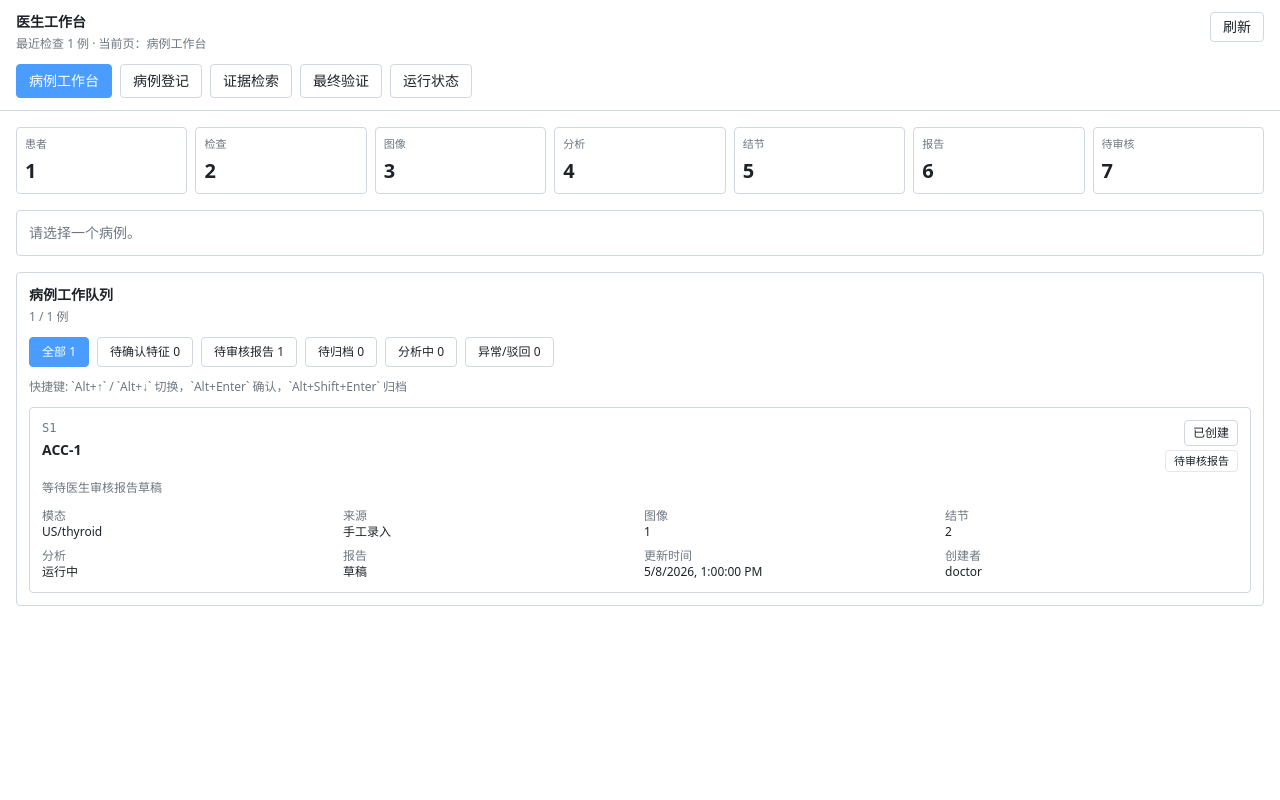
Scenario: MedicalPanel › shows the batch queue mode bar for review queue
This screenshot has width=1280, height=800.
Expected: the heading "ACC-1" is shown, left=42, top=440, right=82, bottom=460
Click the button "待审核报告 1".
click(249, 352)  # box left=201, top=336, right=297, bottom=366
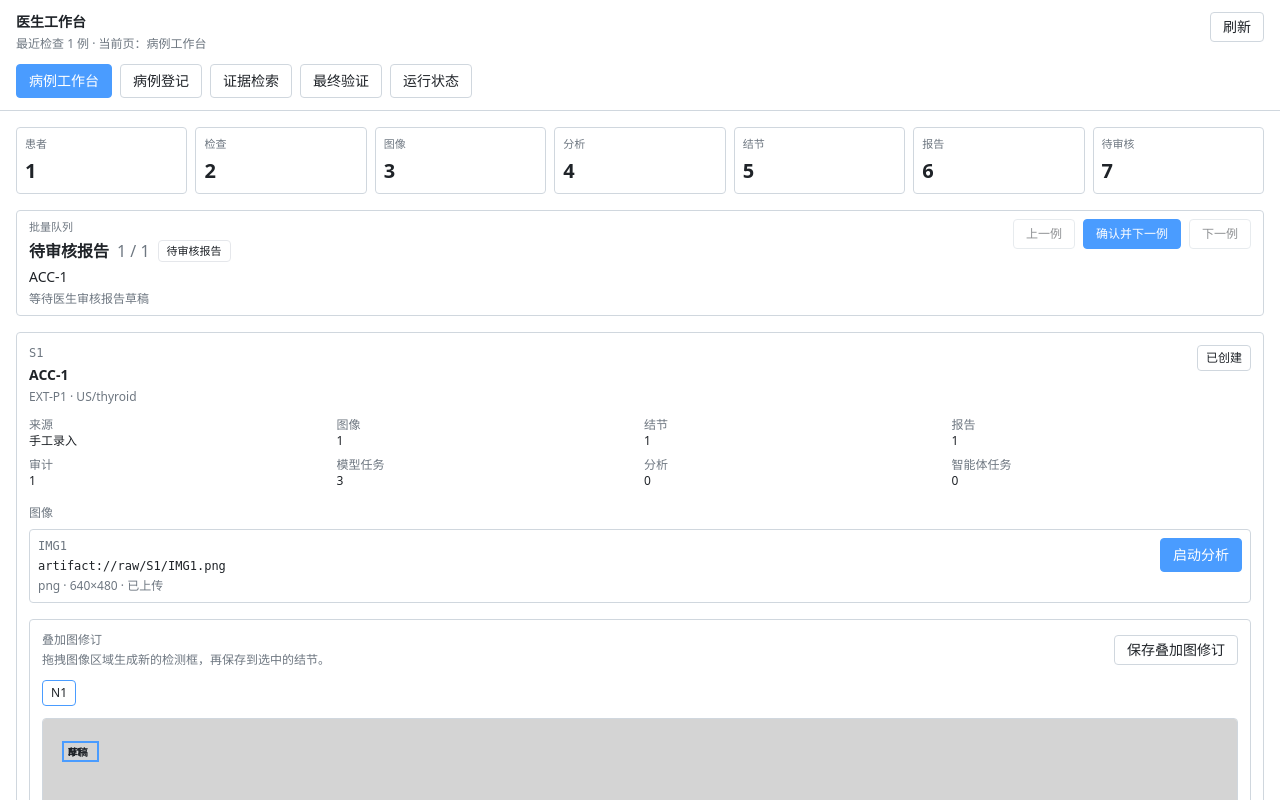
Expected: the 1st text "待审核报告" is shown, left=29, top=239, right=109, bottom=263
Now the text "批量队列" is shown, box left=29, top=218, right=73, bottom=234
Now the button "确认并下一例" is shown, box left=1083, top=218, right=1181, bottom=248
